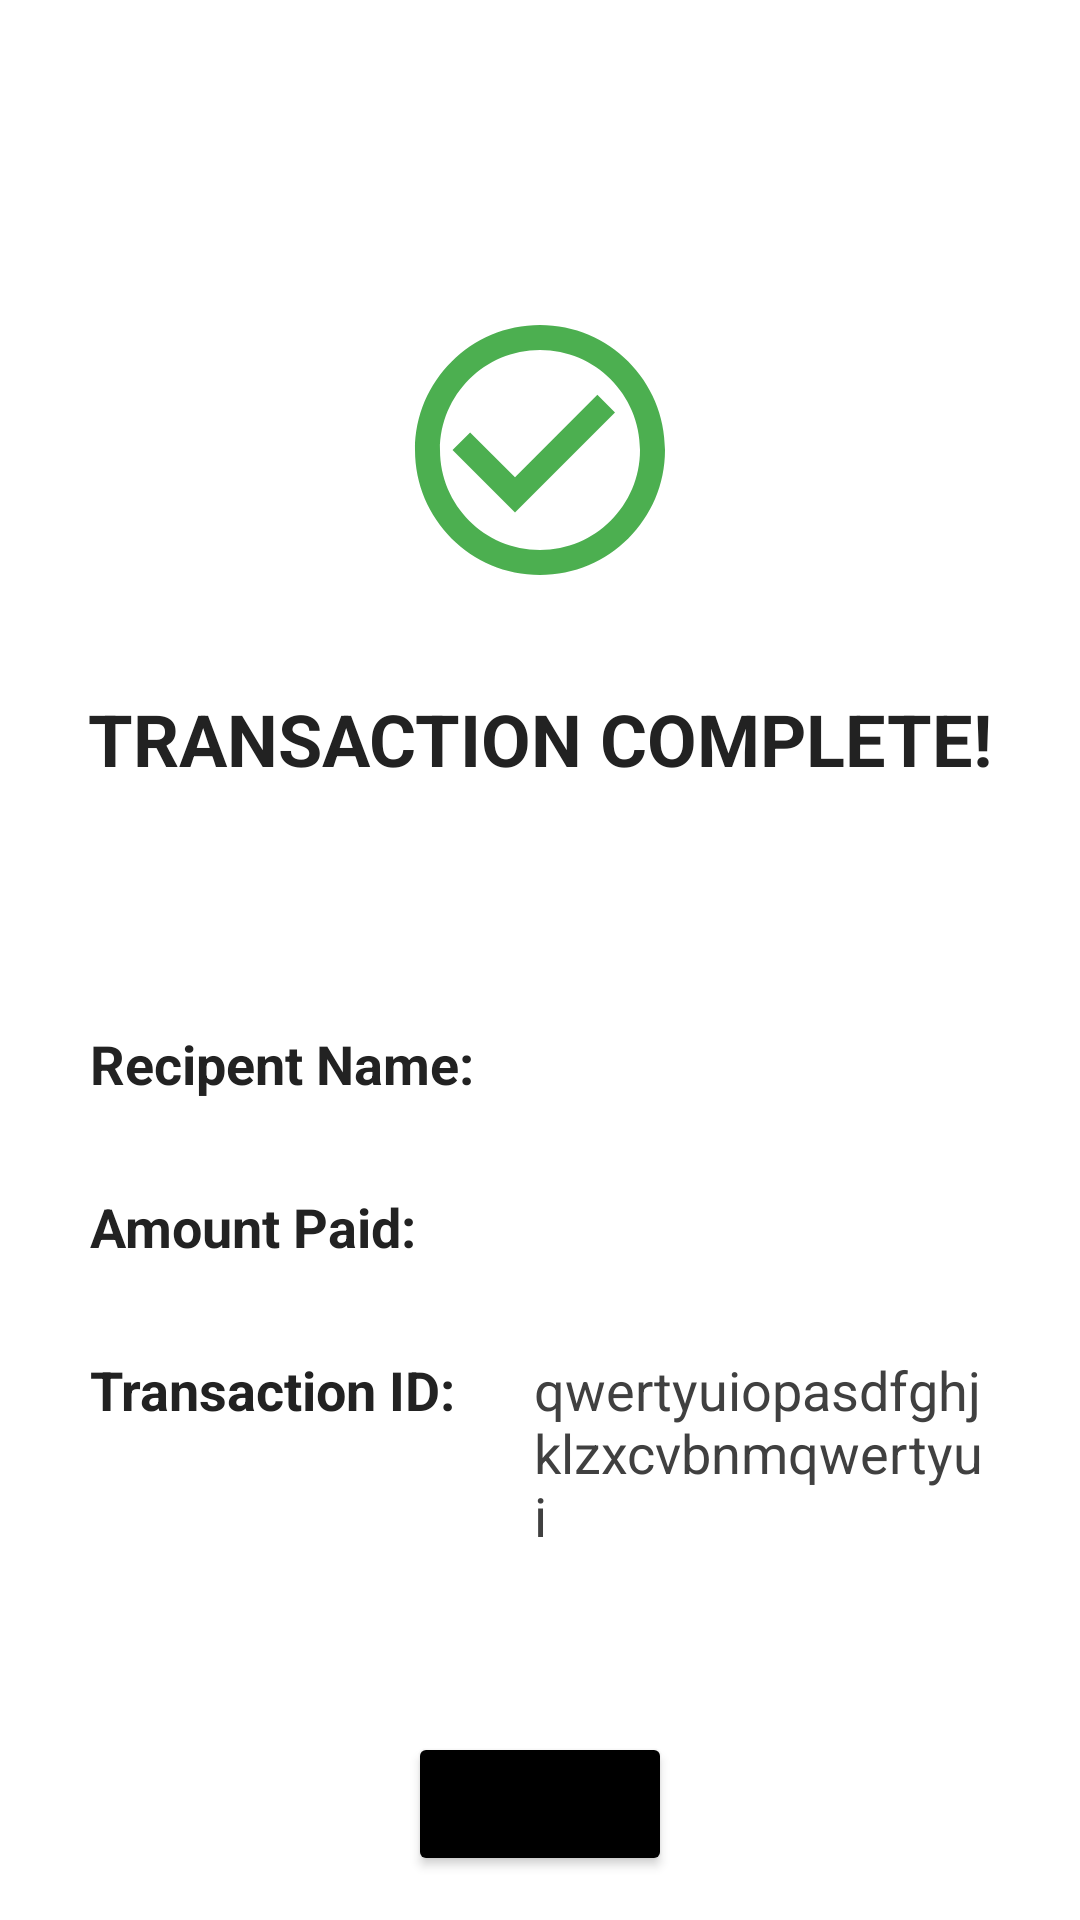

Where icons sit on this 1080w x 1920h app screen, as (x1, y1, x2, y2):
success: (415, 325, 665, 575)
